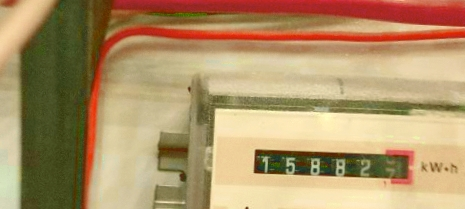1: (259, 154, 269, 172)
2: (358, 157, 371, 177)
5: (281, 155, 296, 175)
7: (382, 165, 395, 177)
8: (332, 155, 346, 177), (308, 155, 321, 176)
screen: (247, 140, 417, 188)
